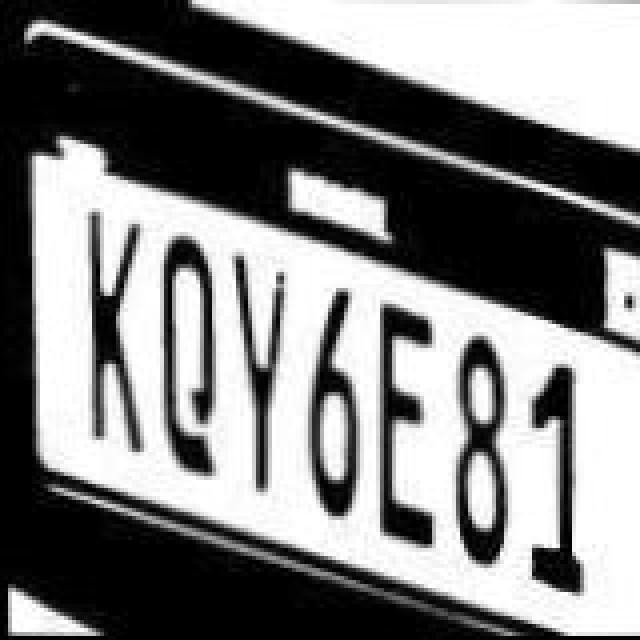1: (520, 358, 592, 602)
6: (296, 288, 364, 524)
8: (448, 328, 520, 568)
E: (368, 304, 440, 552)
K: (72, 208, 152, 472)
Q: (154, 230, 230, 482)
Y: (226, 250, 302, 494)
